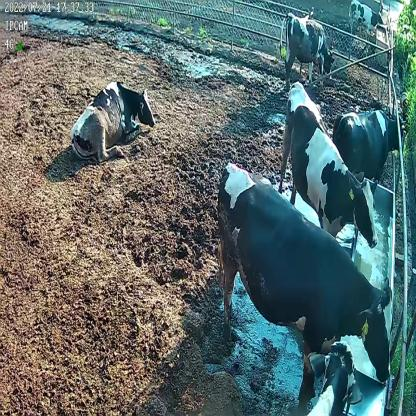cow: (216, 158, 391, 392), (279, 76, 377, 257), (70, 78, 154, 161), (331, 109, 407, 184), (276, 9, 334, 88), (349, 1, 383, 36)
